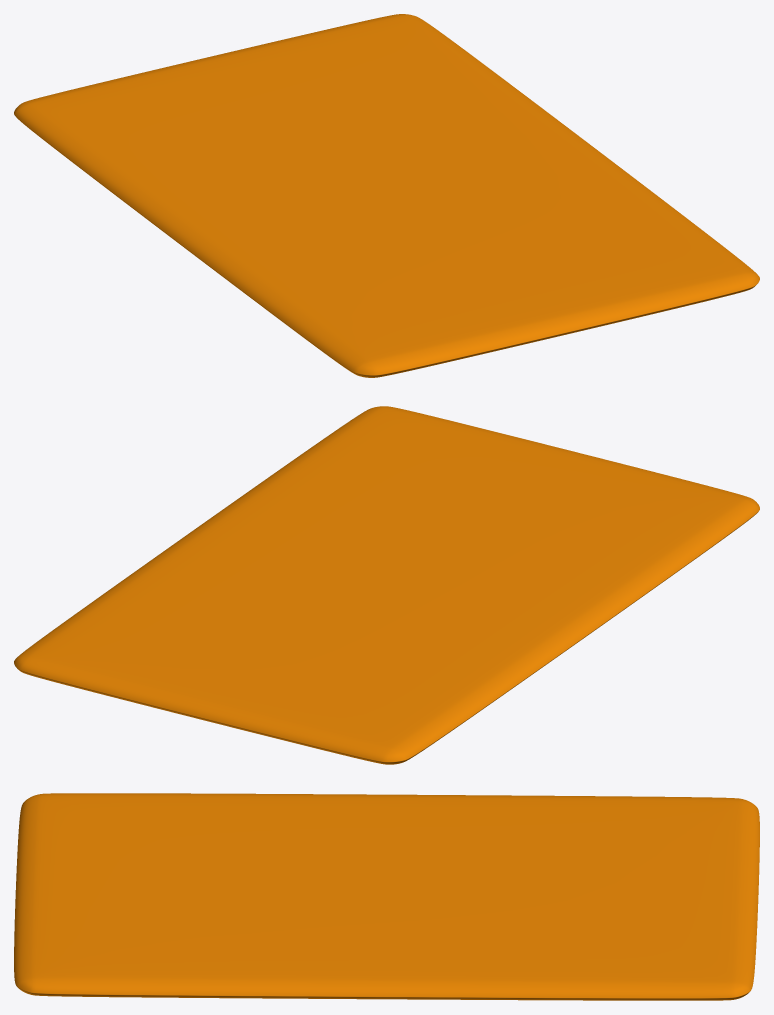
The model's file is keycard_model.fbx.
3 renders of one model, top to bottom at view 1: azimuth 30°, elevation 25°; view 2: azimuth 150°, elevation 25°; view 3: azimuth 270°, elevation 25°, orthographic.
Parts seen in each view (by area): view 1: pCube11; view 2: pCube11; view 3: pCube11.
Boxes of the visible parts, x1=… form: pCube11: x1=14, y1=14, x2=759, y2=377; pCube11: x1=14, y1=406, x2=759, y2=764; pCube11: x1=14, y1=793, x2=759, y2=1000.
Size of the model in its own units: 24.57 by 1.07 by 38.13.
